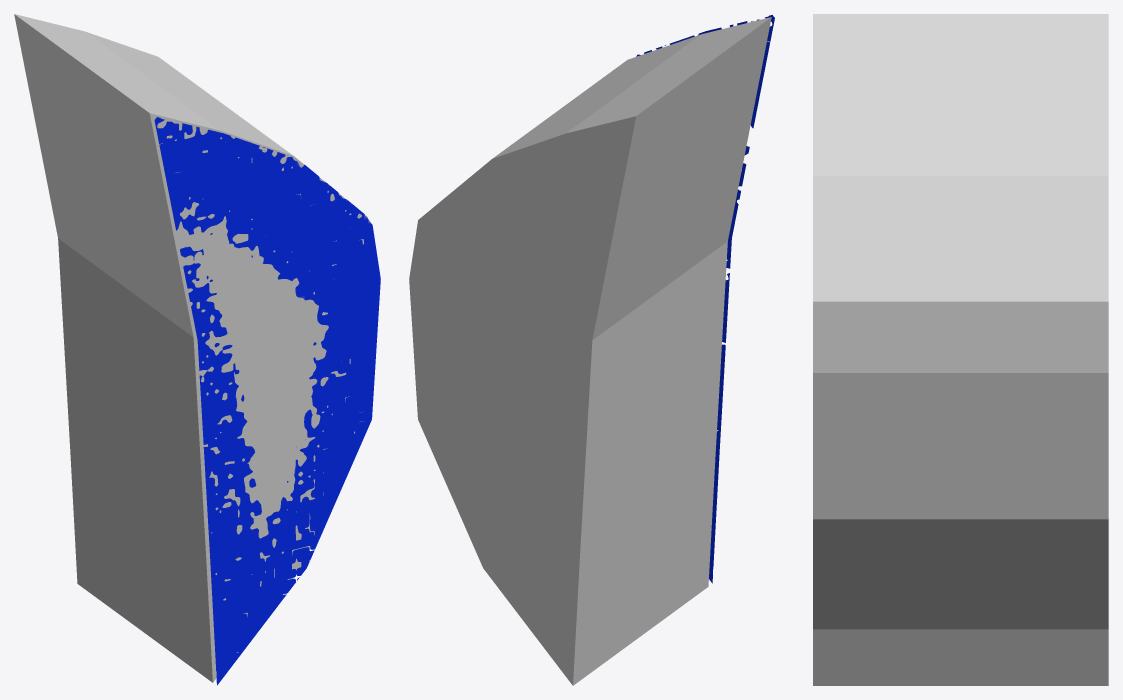
3 views of the same model, side by side, from view 1: azimuth 30°, elevation 25°; view 2: azimuth 150°, elevation 25°; view 3: azimuth 270°, elevation 25° (orthographic). The views are drawn at different scales.
Visible parts, largest first — view 1: In3_0, In3_1; view 2: In3_0, In3_1; view 3: In3_0.
Part boxes in pixels (left/top/right/bottom): In3_0: left=14, top=14, right=367, bottom=682; In3_1: left=154, top=117, right=380, bottom=685; In3_0: left=409, top=17, right=771, bottom=685; In3_1: left=636, top=15, right=774, bottom=583; In3_0: left=813, top=14, right=1108, bottom=685.
Size of the model in its own units: 0.4839 by 1.19 by 0.515.
2 materials, 1 textured.
